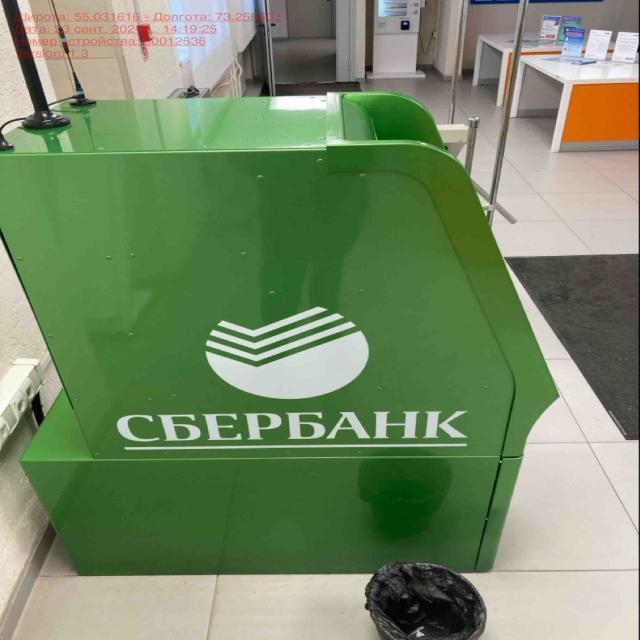bank: (0, 91, 569, 576)
